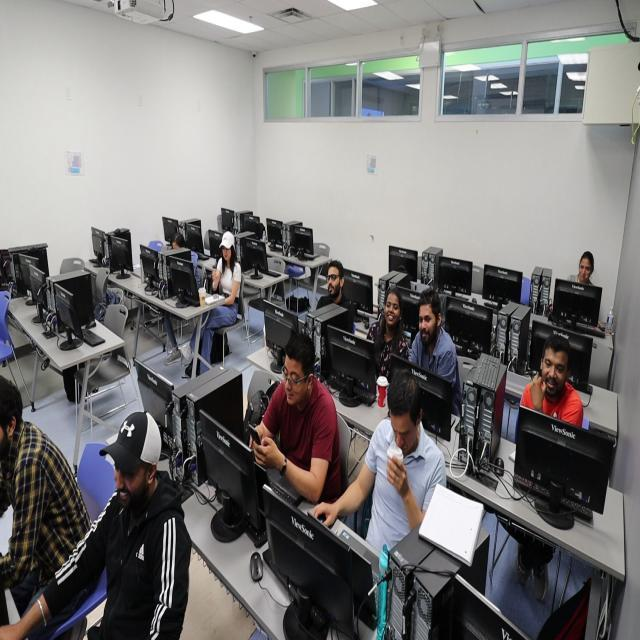Looking away: (112, 458, 146, 502), (389, 408, 416, 456)
Looking forward: (541, 347, 566, 393), (419, 306, 436, 344), (578, 254, 592, 284), (327, 265, 340, 297), (385, 292, 398, 324), (222, 244, 231, 264)
Phone use: (247, 346, 338, 464)
